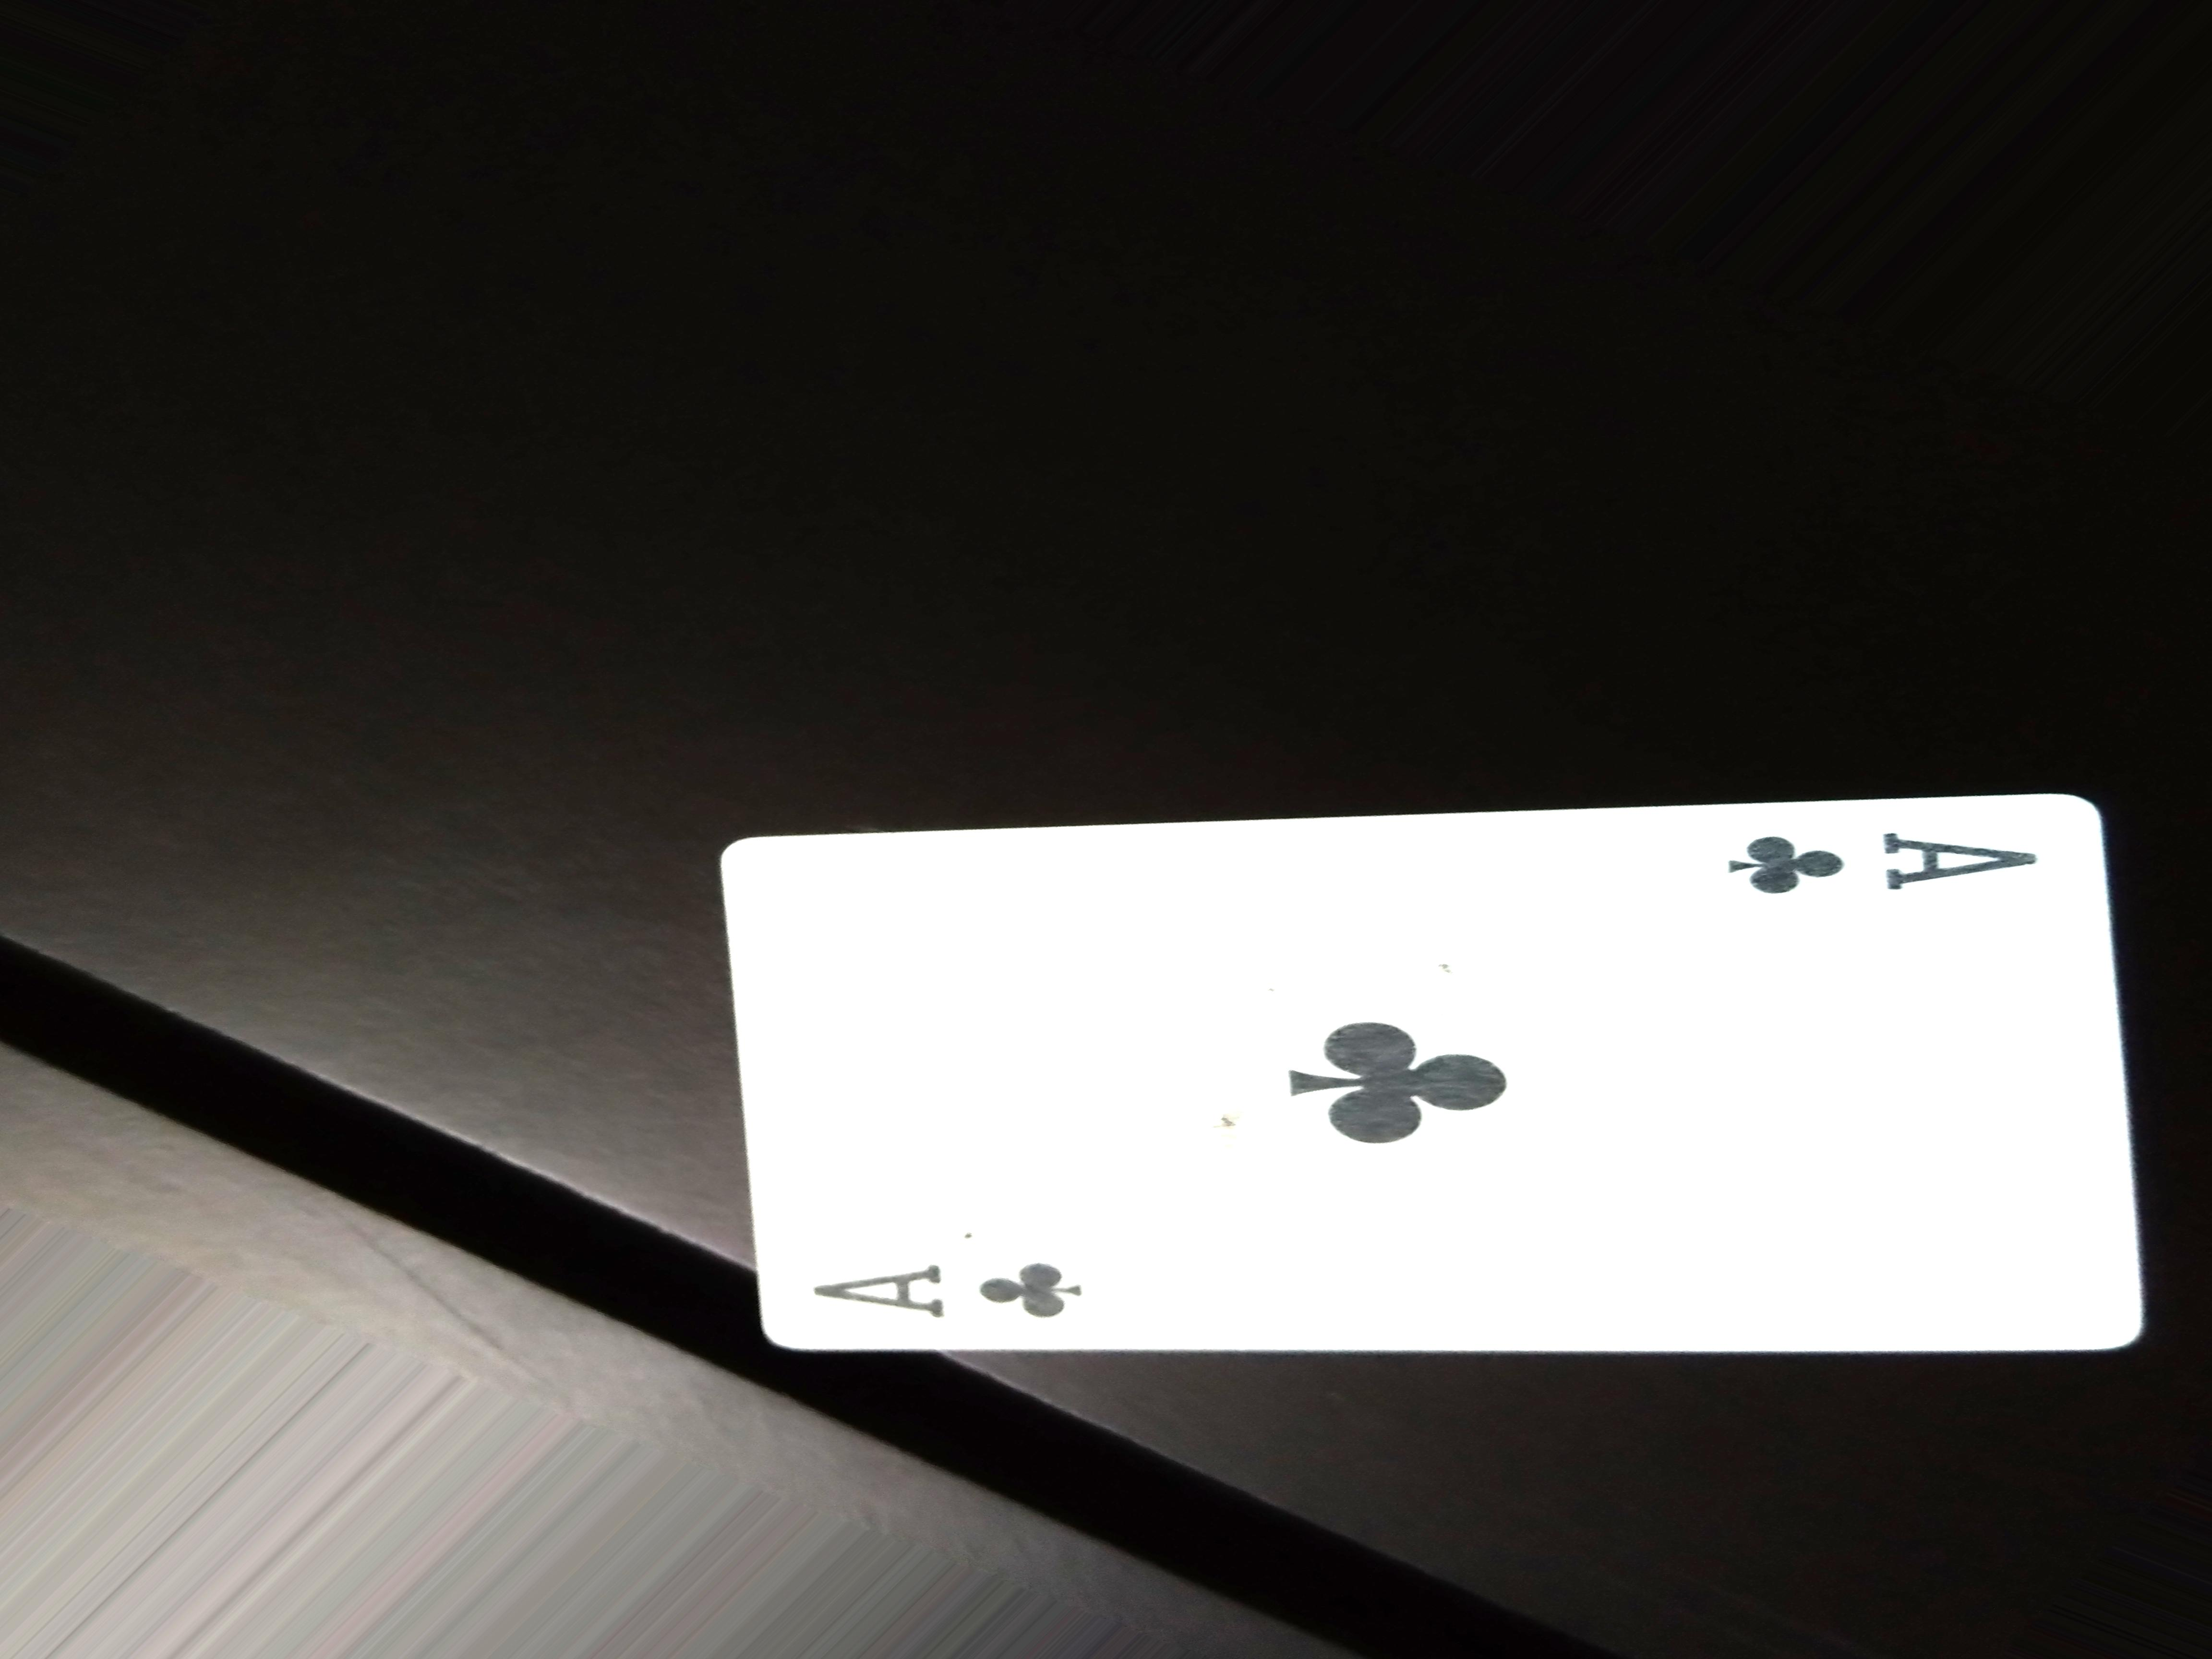AC: (780, 1248, 1094, 1342)
